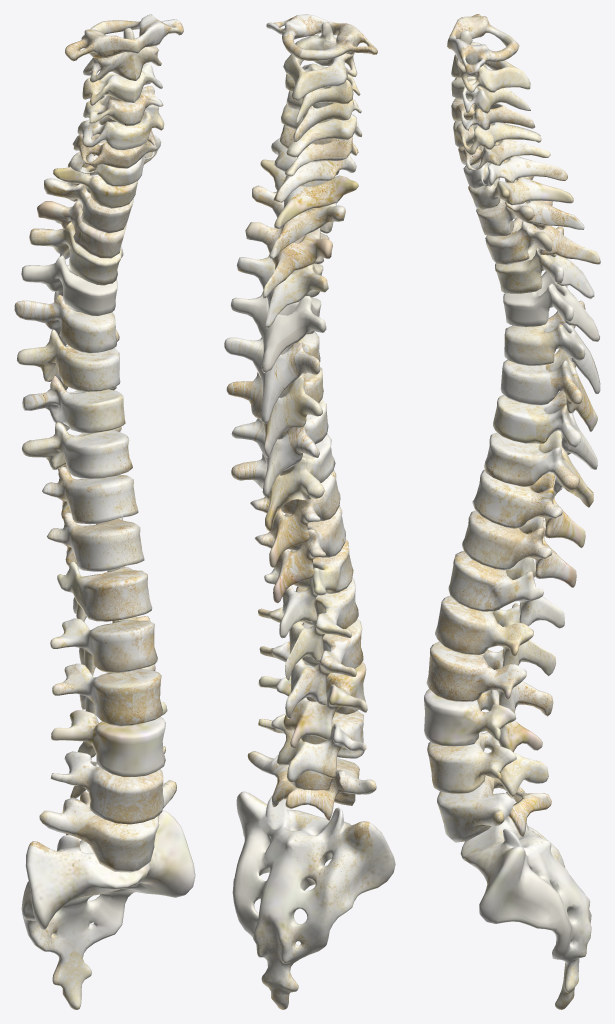
File: bones_texture_2.glb
3 views of the same model, side by side, from view 1: azimuth 30°, elevation 25°; view 2: azimuth 150°, elevation 25°; view 3: azimuth 270°, elevation 25° (orthographic). The views are drawn at different scales.
Visible parts, largest first — view 1: Sacrum, L5, L3, L2, L4, L1, T9, T12, T11, T7, T10, T8 (+13 smaller); view 2: Sacrum, L5, L4, L2, L3, L1, T7, T9, T6, T5, T11, T12 (+13 smaller); view 3: Sacrum, L2, L1, T12, L4, L3, T11, T10, T9, L5, T8, T7 (+13 smaller).
Boxes of the visible parts, x1=… form: Sacrum: x1=21, y1=810, x2=195, y2=1009; L5: x1=39, y1=780, x2=176, y2=872; L3: x1=51, y1=702, x2=167, y2=777; L2: x1=52, y1=663, x2=162, y2=726; L4: x1=50, y1=746, x2=165, y2=824; L1: x1=50, y1=616, x2=157, y2=675; T9: x1=22, y1=422, x2=132, y2=478; T12: x1=57, y1=561, x2=152, y2=621; T11: x1=47, y1=512, x2=144, y2=571; T7: x1=17, y1=329, x2=120, y2=391; T10: x1=42, y1=466, x2=138, y2=524; T8: x1=22, y1=376, x2=125, y2=433; Sacrum: x1=232, y1=791, x2=395, y2=1009; L5: x1=247, y1=751, x2=376, y2=820; L4: x1=258, y1=710, x2=366, y2=782; L2: x1=259, y1=619, x2=363, y2=719; L3: x1=258, y1=662, x2=367, y2=748; L1: x1=258, y1=578, x2=358, y2=680; T7: x1=226, y1=367, x2=323, y2=457; T9: x1=231, y1=434, x2=335, y2=531; T6: x1=224, y1=332, x2=320, y2=423; T5: x1=230, y1=291, x2=326, y2=372; T11: x1=254, y1=506, x2=345, y2=603; T12: x1=264, y1=539, x2=353, y2=638; Sacrum: x1=460, y1=787, x2=591, y2=1009; L2: x1=426, y1=641, x2=553, y2=716; L1: x1=435, y1=595, x2=555, y2=676; T12: x1=448, y1=551, x2=564, y2=628; L4: x1=427, y1=732, x2=548, y2=797; L3: x1=424, y1=689, x2=542, y2=752; T11: x1=462, y1=510, x2=576, y2=587; T10: x1=472, y1=469, x2=585, y2=548; T9: x1=484, y1=430, x2=593, y2=507; L5: x1=437, y1=775, x2=551, y2=842; T8: x1=493, y1=391, x2=597, y2=469; T7: x1=500, y1=348, x2=597, y2=431.
Size of the model in its own units: 89.06 by 540 by 88.14.
1 material, 1 textured.
